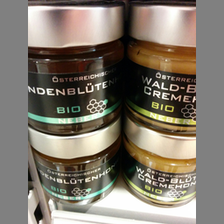honey: (28, 4, 126, 134), (129, 3, 198, 134), (25, 119, 124, 199), (124, 115, 198, 210)
